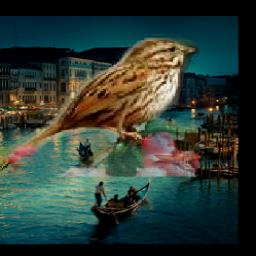Sparrow: (0, 34, 198, 177)
